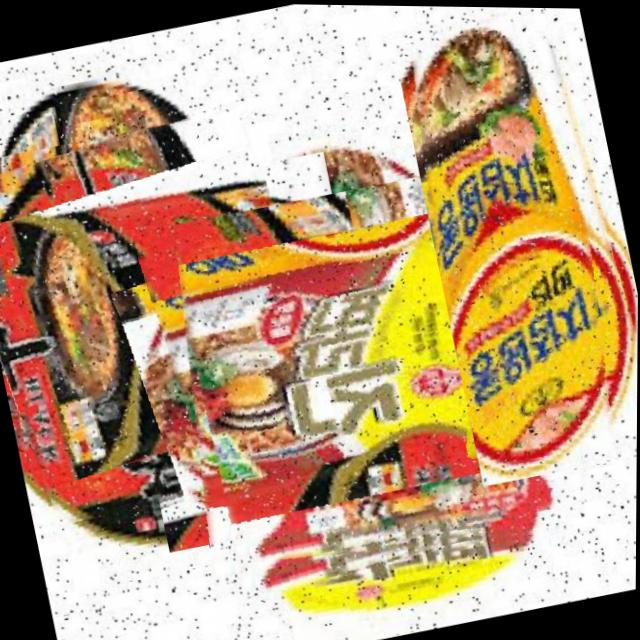Miscellaneous: (140, 152, 590, 604), (0, 97, 355, 540), (385, 4, 640, 484)
